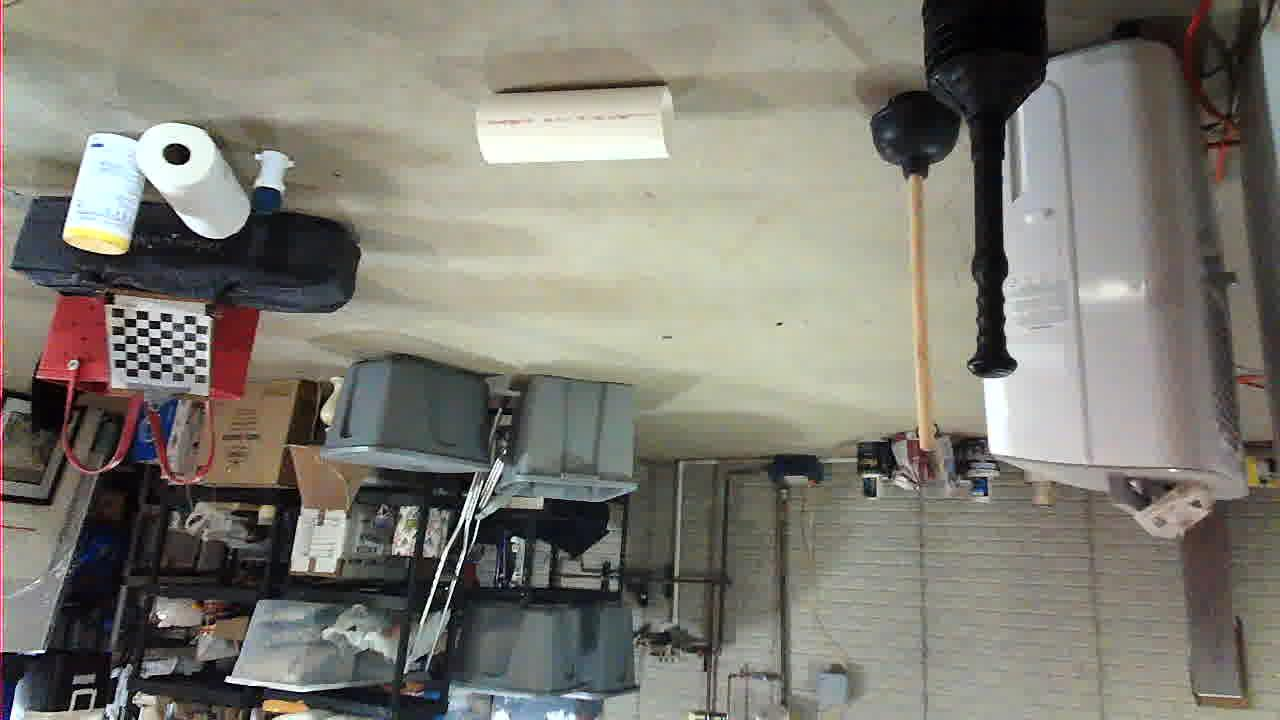coral: (605, 555, 804, 635)
